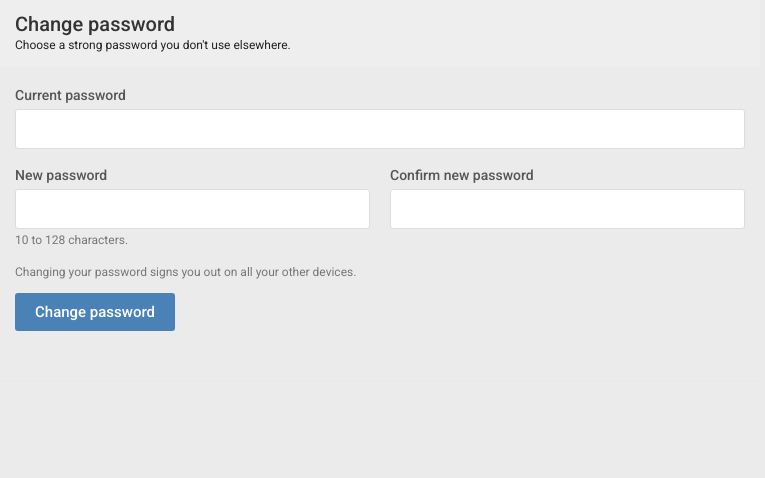
Test case: a wrong current password is shown on that field and nothing is confirmed
The width and height of the screenshot is (765, 478).
Type "wrong-password" into the password field labelled "Current password".
click(380, 129); type("wrong-password")  # box top-left (15, 109), bottom-right (745, 149)
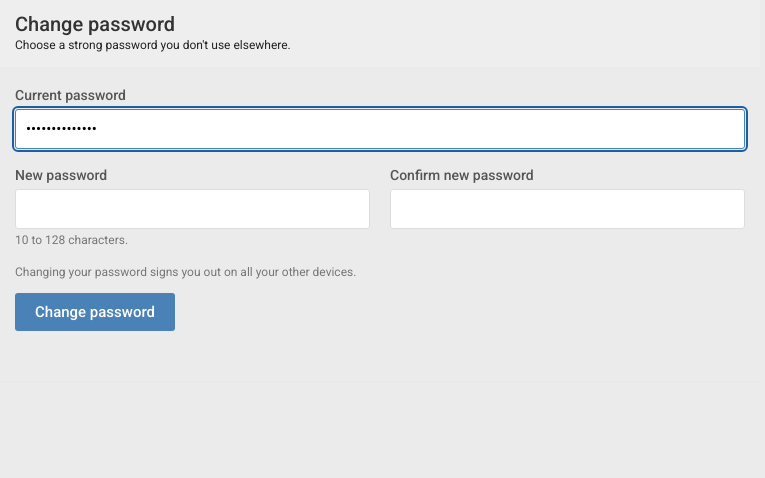
Type "abcdefghij" into the password field labelled "New password".
click(192, 209); type("abcdefghij")  # box top-left (15, 189), bottom-right (370, 229)
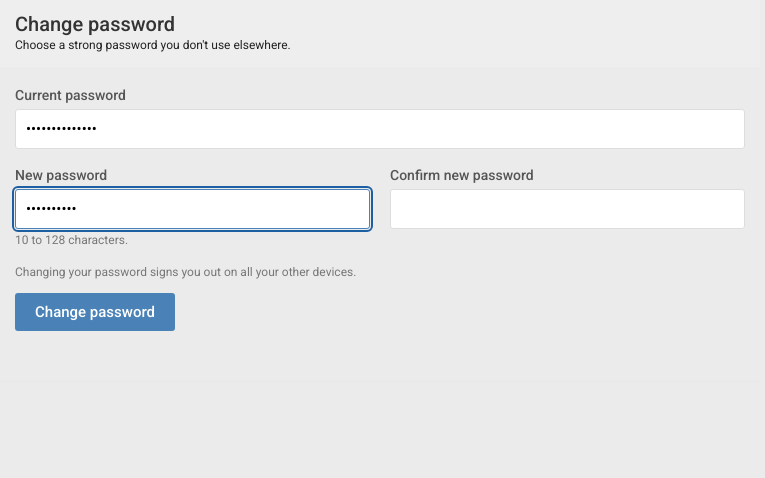
Type "abcdefghij" into the password field labelled "Confirm new password".
click(568, 209); type("abcdefghij")  # box top-left (390, 189), bottom-right (745, 229)
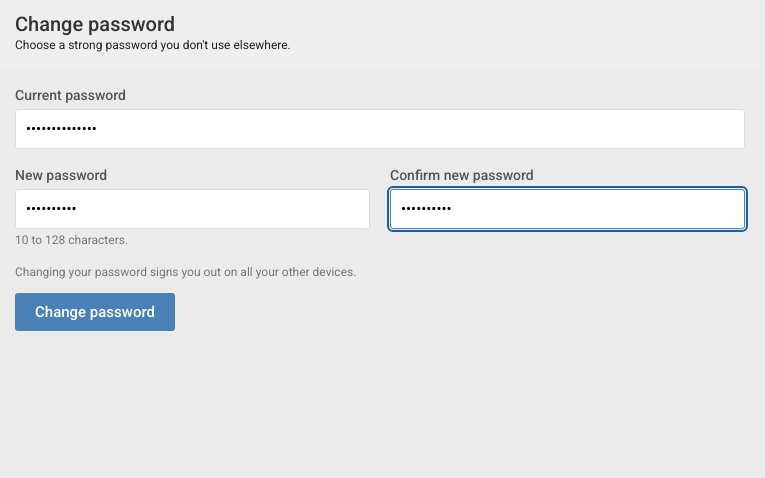
Click the button "Change password".
click(95, 312)  # box top-left (15, 293), bottom-right (175, 331)
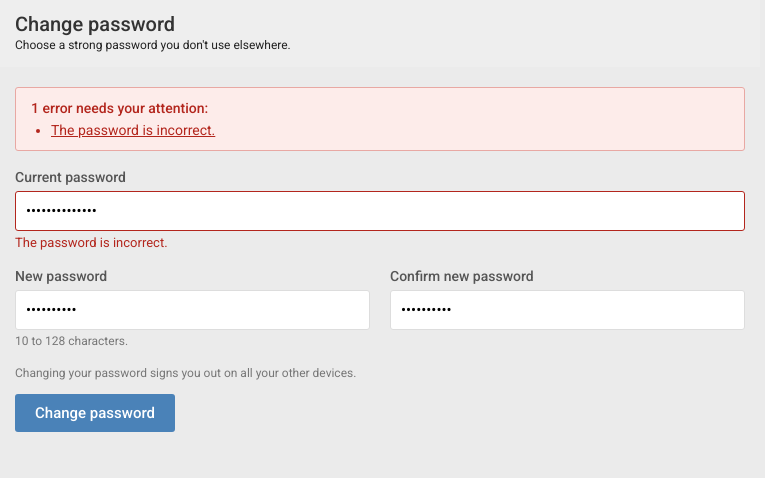
expect the 2nd message is empty: met, box top-left (15, 442), bottom-right (745, 462)
expect the text with id "currentPassword-error" reads "The password is incorrect.": met, box top-left (15, 235), bottom-right (168, 250)
